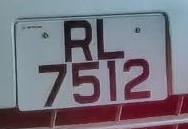1: (102, 56, 124, 106)
2: (119, 53, 157, 106)
5: (68, 60, 104, 107)
7: (32, 59, 76, 112)
L: (94, 13, 139, 66)
R: (60, 16, 97, 62)
